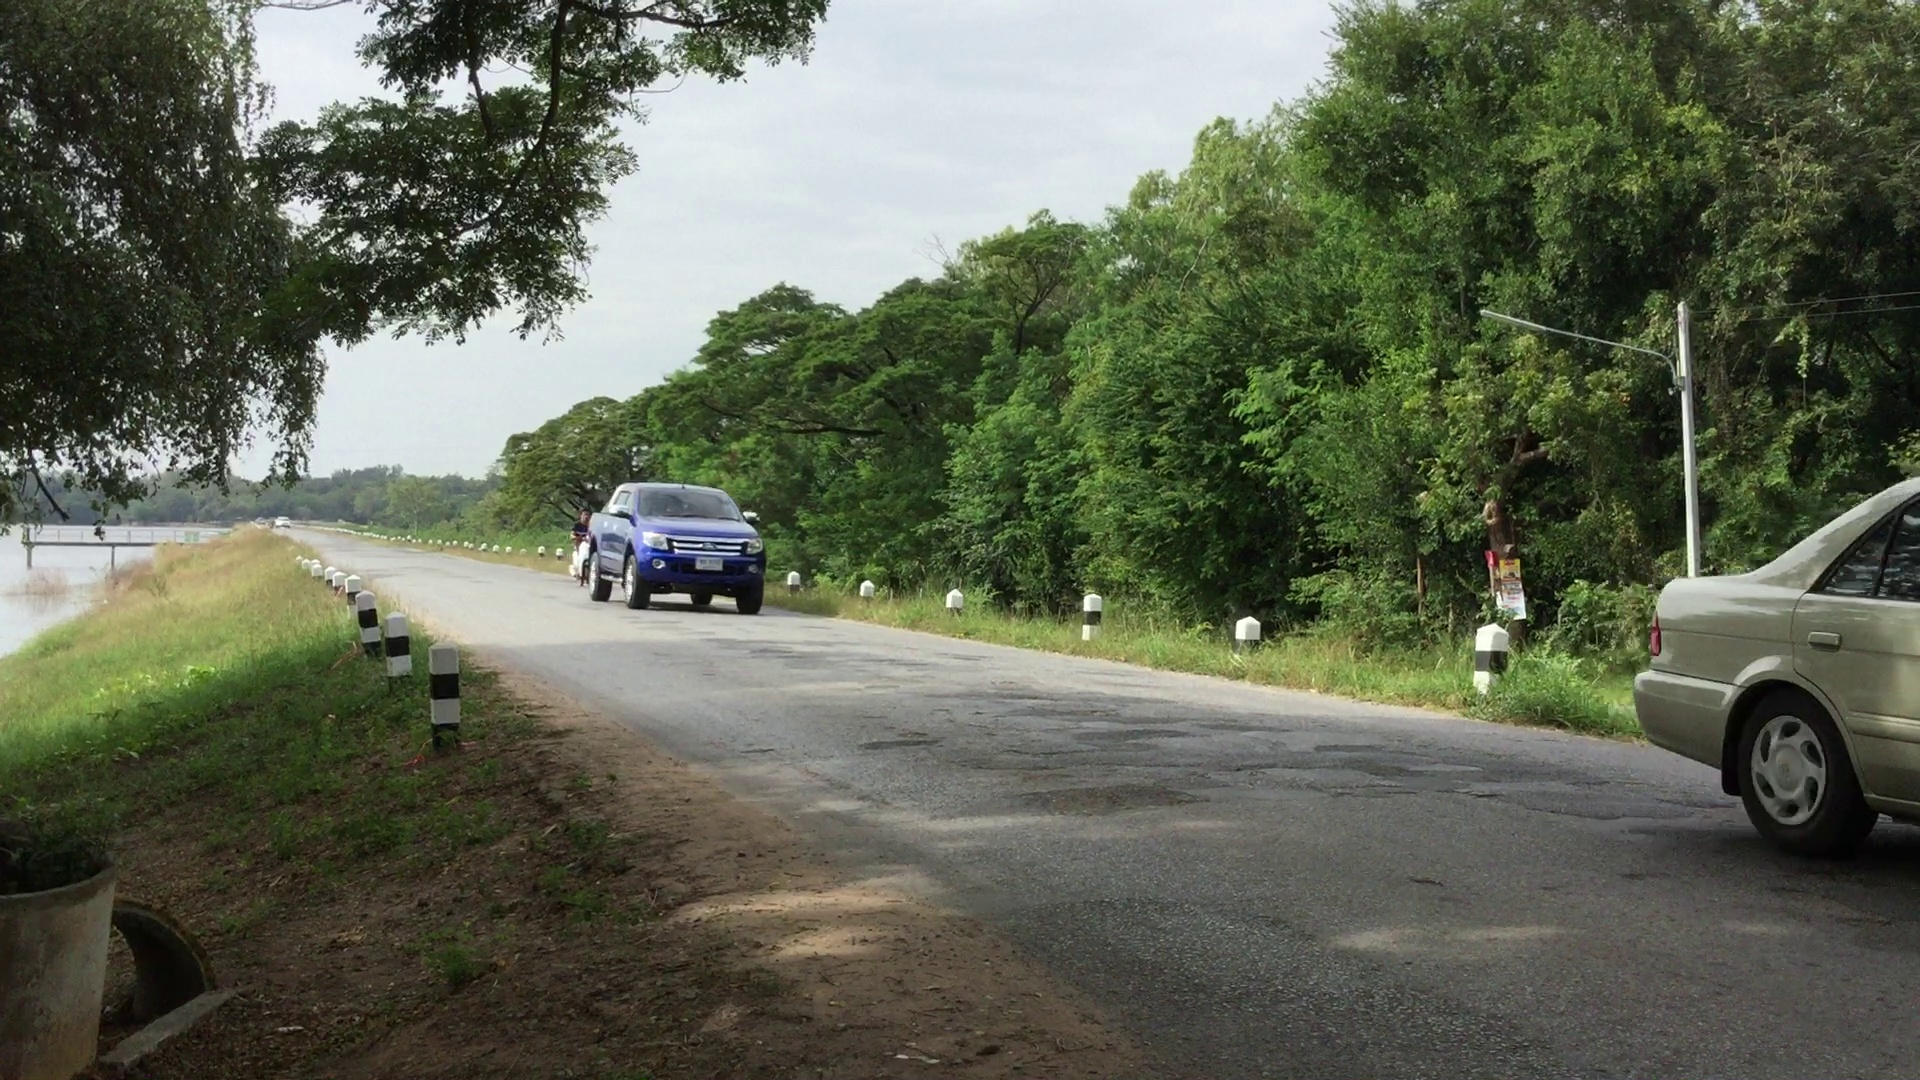car: (1641, 486, 1920, 857), (590, 481, 767, 608)
person: (568, 507, 592, 578)
